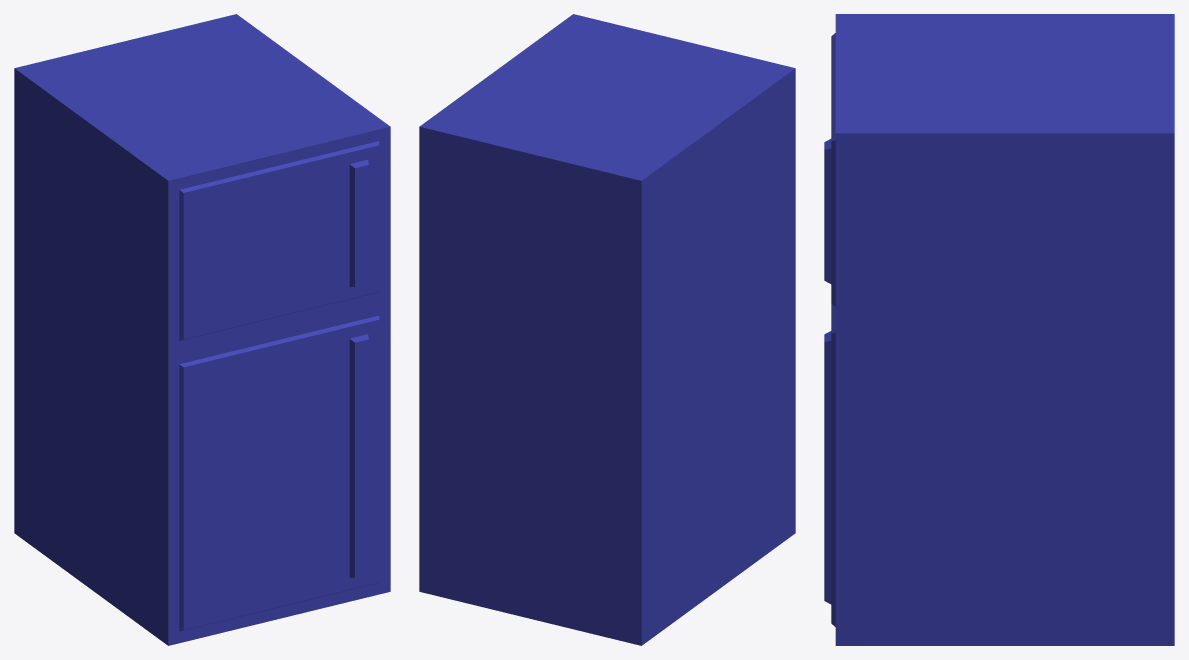
Rendered from fridge_2-4x4x2.FBX.
The picture shows the model from 3 angles, left to right: view 1: azimuth 30°, elevation 25°; view 2: azimuth 150°, elevation 25°; view 3: azimuth 270°, elevation 25°; orthographic projection. The views are drawn at different scales.
Parts seen in each view (by area): view 1: fridge_2-4x4x2; view 2: fridge_2-4x4x2; view 3: fridge_2-4x4x2.
Boxes of the visible parts, left/top/right/bottom form: fridge_2-4x4x2: left=14, top=14, right=390, bottom=645; fridge_2-4x4x2: left=419, top=14, right=795, bottom=645; fridge_2-4x4x2: left=824, top=14, right=1174, bottom=645.
Size of the model in its own units: 2 by 4 by 2.48.
